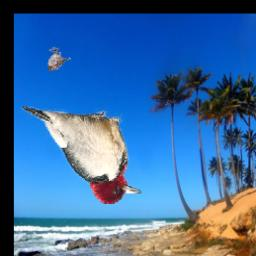Sparrow: (47, 48, 72, 72)
Woodpecker: (21, 106, 141, 204)
